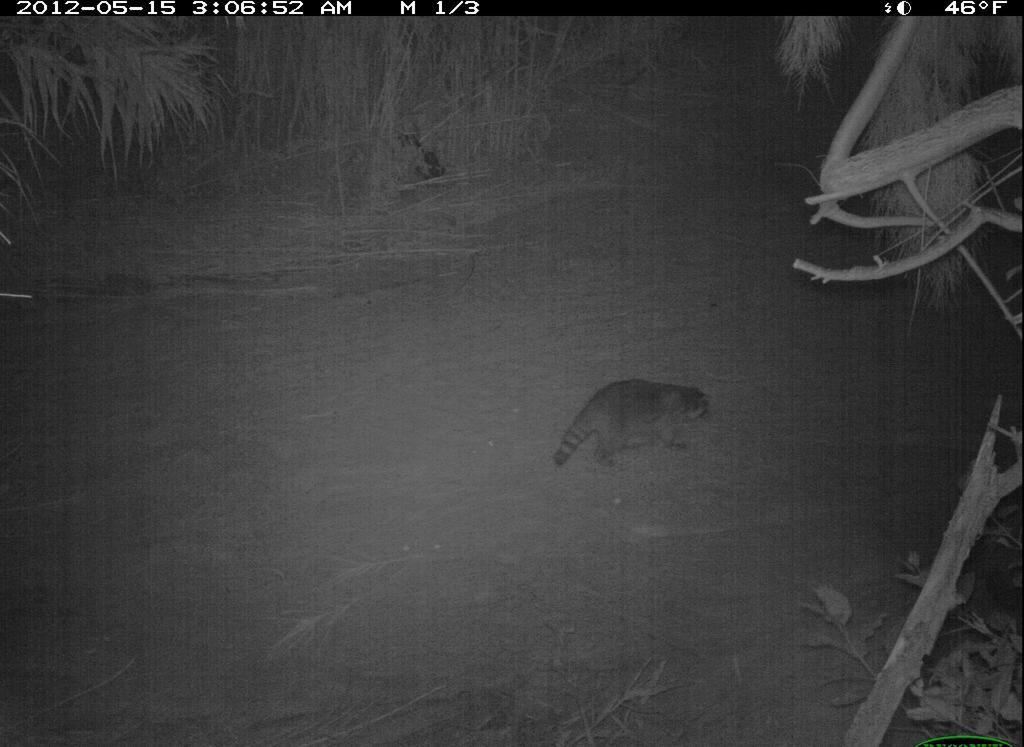raccoon: (536, 359, 719, 477)
